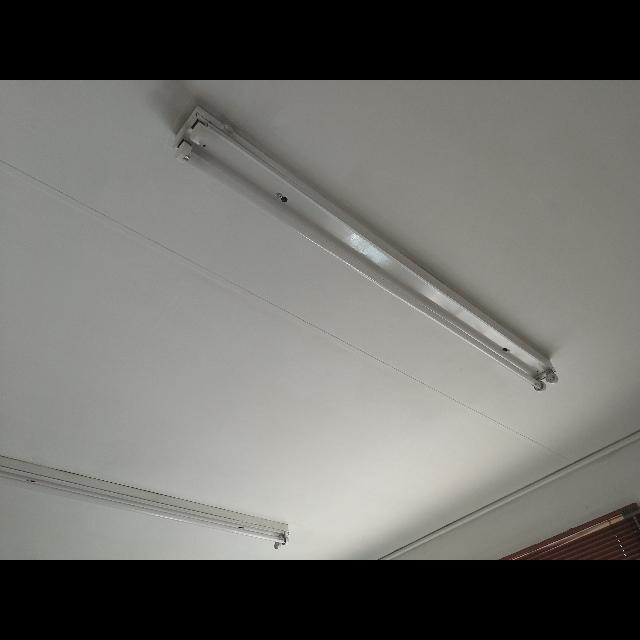Straight-Tube-Fluorescent-Lamp: (160, 104, 570, 403), (0, 433, 296, 552)
